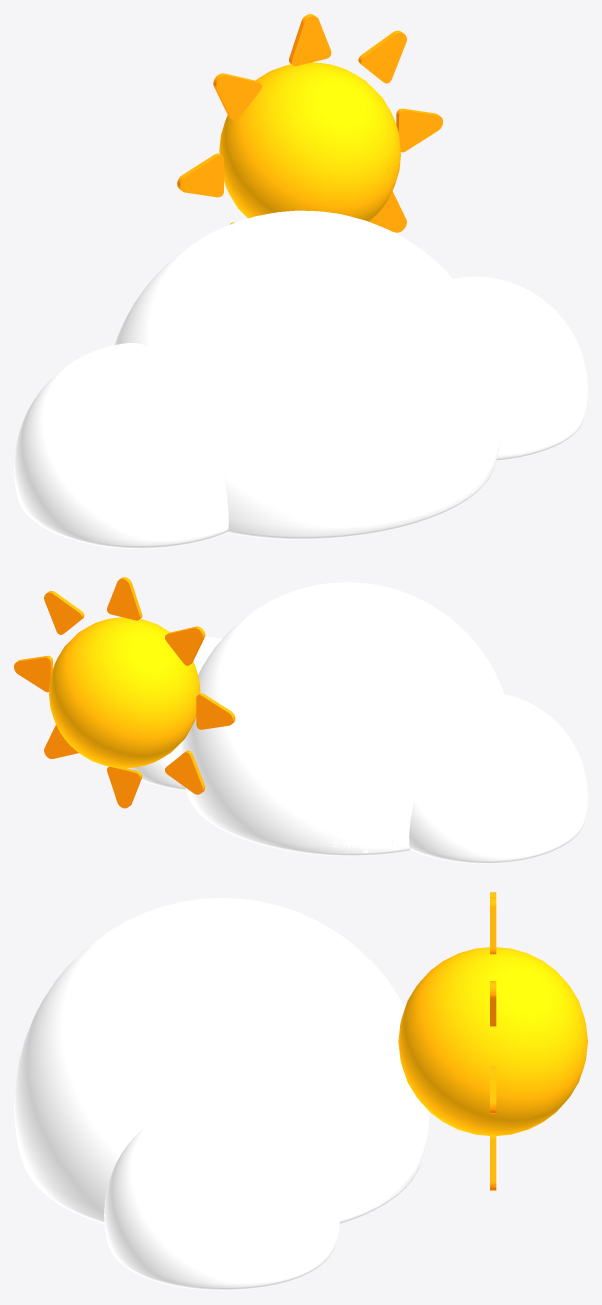
File: sun_behind_large_cloud.gltf
3 renders of one model, top to bottom at view 1: azimuth 30°, elevation 25°; view 2: azimuth 150°, elevation 25°; view 3: azimuth 270°, elevation 25°, orthographic. The views are drawn at different scales.
Parts seen in each view (by area): view 1: Cube.204; view 2: Cube.204; view 3: Cube.204.
Part boxes in pixels (bbox=[...]): Cube.204: bbox=[14, 14, 587, 548]; Cube.204: bbox=[14, 577, 587, 863]; Cube.204: bbox=[14, 892, 587, 1290].
Size of the model in its own units: 2.06 by 1.15 by 1.81.
Materials: 1 (1 with a texture image).
